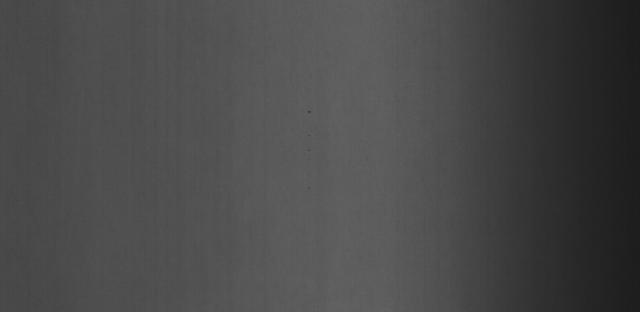inclusion: (304, 146, 316, 193), (302, 102, 316, 142)
